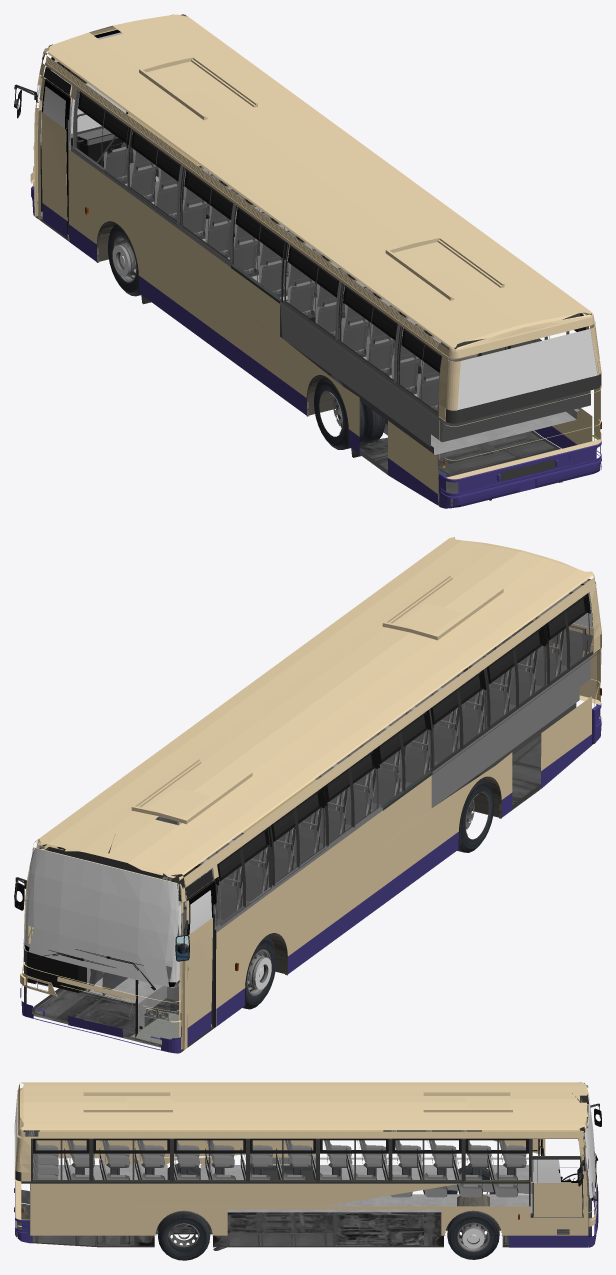
Rendered from indian-bus.glb.
3 views of the same model, one above another, from view 1: azimuth 30°, elevation 25°; view 2: azimuth 150°, elevation 25°; view 3: azimuth 270°, elevation 25° (orthographic). The views are drawn at different scales.
Parts seen in each view (by area): view 1: G-__556545.001, G-__558597, G-__555717, G-__555735; view 2: G-__556545.001, G-__558597, G-__555735, G-__555717; view 3: G-__556545.001, G-__556257.001, G-__555762, G-__555636, G-__555735.
Part boxes in pixels (x1=…): G-__556545.001: x1=14, y1=14, x2=601, y2=508; G-__558597: x1=41, y1=79, x2=70, y2=239; G-__555717: x1=314, y1=375, x2=385, y2=449; G-__555735: x1=108, y1=224, x2=140, y2=296; G-__556545.001: x1=14, y1=537, x2=601, y2=1053; G-__558597: x1=186, y1=880, x2=216, y2=1045; G-__555735: x1=242, y1=936, x2=276, y2=1009; G-__555717: x1=457, y1=776, x2=494, y2=852; G-__556545.001: x1=14, y1=1082, x2=601, y2=1250; G-__556257.001: x1=530, y1=1155, x2=583, y2=1217; G-__555762: x1=447, y1=1211, x2=499, y2=1259; G-__555636: x1=158, y1=1211, x2=210, y2=1260; G-__555735: x1=447, y1=1165, x2=494, y2=1194.
Bounding box in the file's own units: 3.04 × 3.24 × 12.19.
Materials: 78 (52 with a texture image).
